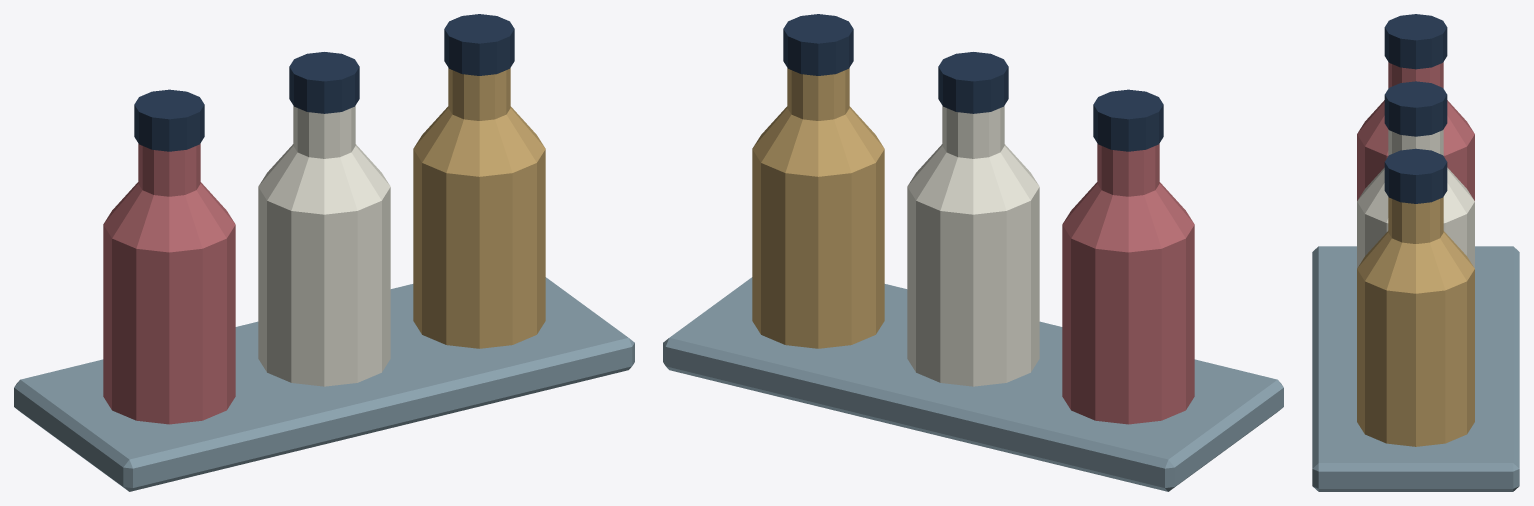
File: condiment_bottle_set.glb
The picture shows the model from 3 angles, left to right: view 1: azimuth 30°, elevation 25°; view 2: azimuth 150°, elevation 25°; view 3: azimuth 270°, elevation 25°; orthographic projection. The views are drawn at different scales.
Visible parts, largest first — view 1: condiment_body (×3), bottle_tray, condiment_shoulder (×3), condiment_cap (×3), condiment_neck (×3); view 2: condiment_body (×3), bottle_tray, condiment_shoulder (×3), condiment_cap (×3), condiment_neck (×3); view 3: bottle_tray, condiment_body (×3), condiment_cap (×3), condiment_shoulder (×3), condiment_neck (×3).
Boxes of the visible parts, <box> form: condiment_body (×3): <box>103,149,545,424</box>; bottle_tray: <box>14,277,634,491</box>; condiment_shoulder (×3): <box>103,106,545,252</box>; condiment_cap (×3): <box>134,14,514,151</box>; condiment_neck (×3): <box>138,68,510,196</box>; condiment_body (×3): <box>752,149,1194,424</box>; bottle_tray: <box>663,277,1283,491</box>; condiment_shoulder (×3): <box>752,106,1194,252</box>; condiment_cap (×3): <box>783,14,1163,151</box>; condiment_neck (×3): <box>787,68,1159,196</box>; bottle_tray: <box>1312,246,1519,491</box>; condiment_body (×3): <box>1357,134,1474,446</box>; condiment_cap (×3): <box>1384,14,1447,203</box>; condiment_shoulder (×3): <box>1357,100,1474,293</box>; condiment_neck (×3): <box>1388,62,1443,243</box>.
Size of the model in its own units: 0.33 by 0.2 by 0.13.
